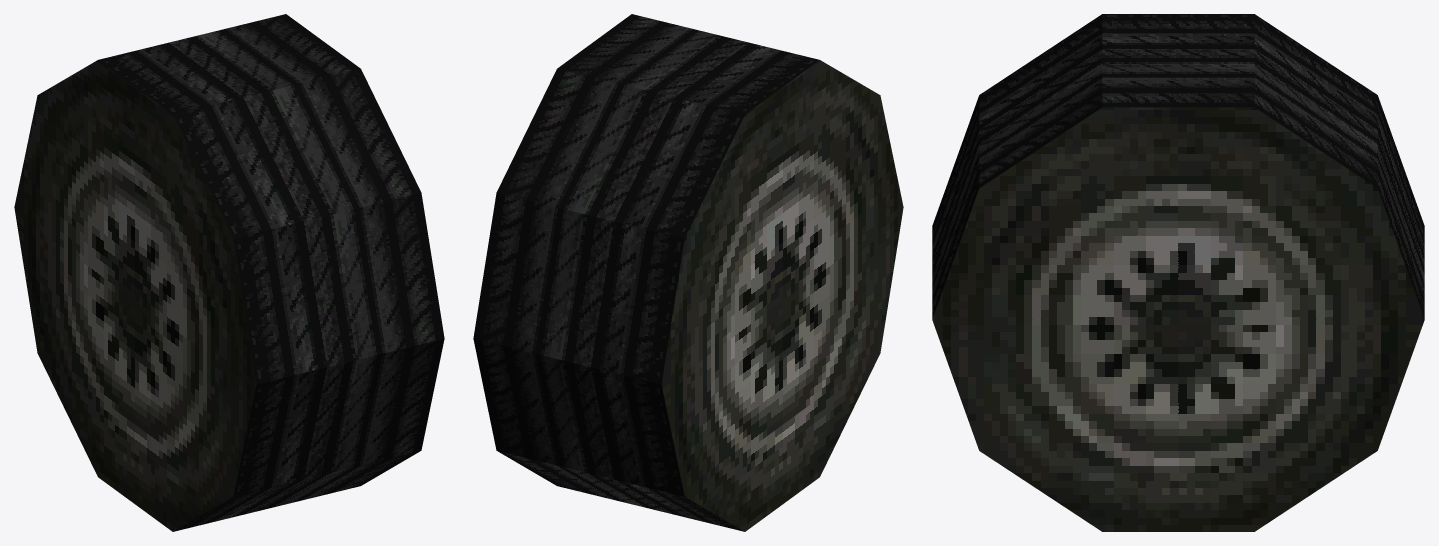
The model's file is Truck_Wheel.fbx.
3 views of the same model, side by side, from view 1: azimuth 30°, elevation 25°; view 2: azimuth 150°, elevation 25°; view 3: azimuth 270°, elevation 25° (orthographic).
Parts seen in each view (by area): view 1: wheel_truck_l1; view 2: wheel_truck_l1; view 3: wheel_truck_l1.
Boxes of the visible parts, box(x1,y1,x2,y2) form: wheel_truck_l1: box(14, 14, 444, 531); wheel_truck_l1: box(473, 14, 903, 531); wheel_truck_l1: box(932, 14, 1424, 531).
Size of the model in its own units: 45.4 by 96.23 by 101.
Materials: 2 (2 with a texture image).
